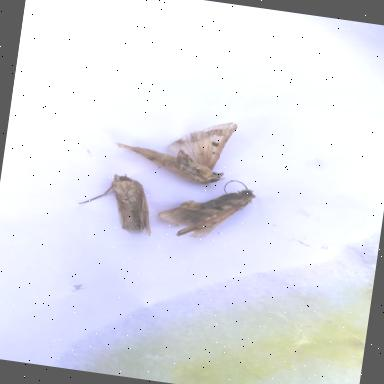abw: (108, 106, 237, 188), (154, 170, 258, 246), (73, 167, 157, 236)
